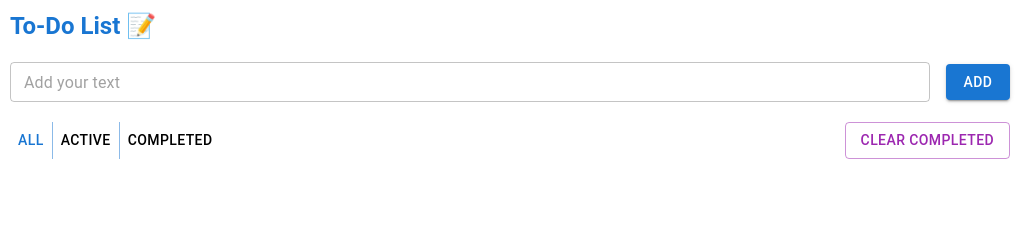
Test: HomePage › deletes a task
In the field with placeholder "Add your text": (470, 82) [10, 62, 930, 102], type "Task to Delete"
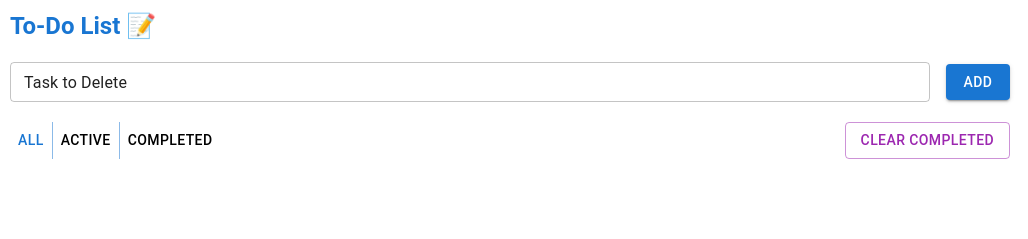
Click the button "Add": (978, 82) [946, 64, 1010, 100]
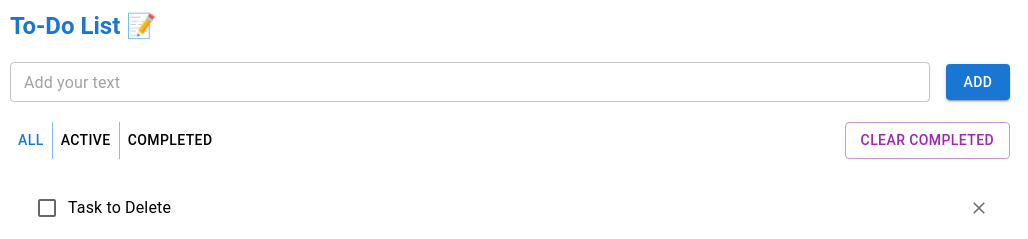
Click the 6th button: (979, 208) [964, 192, 994, 222]
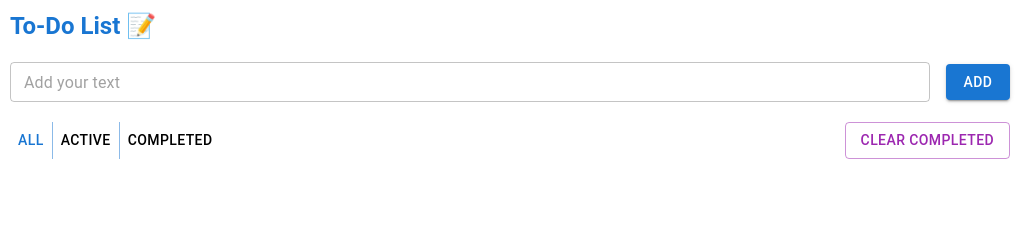
Check: the text "Task to Delete" is gone
